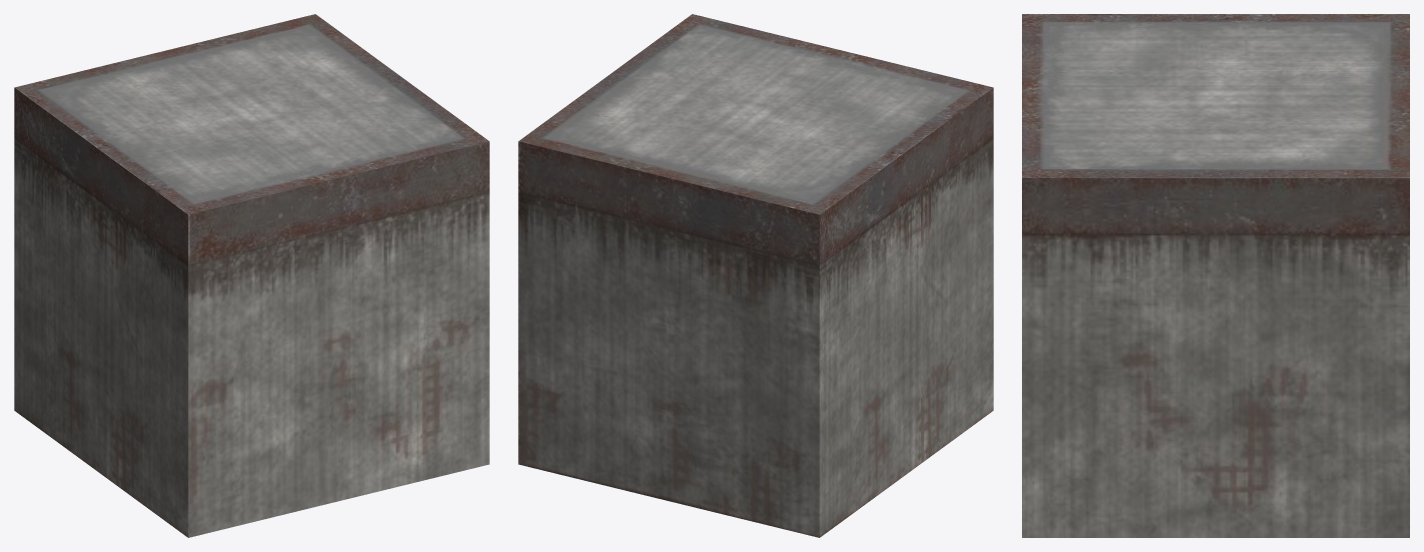
File: armored_foundation_square_high_textured.glb
3 views of the same model, side by side, from view 1: azimuth 30°, elevation 25°; view 2: azimuth 150°, elevation 25°; view 3: azimuth 270°, elevation 25° (orthographic). The views are drawn at different scales.
Visible parts, largest first — view 1: Cube; view 2: Cube; view 3: Cube.
Part boxes in pixels (x1,y1,x2,y2): Cube: (14,14,489,537); Cube: (518,14,993,537); Cube: (1022,14,1409,537).
Size of the model in its own units: 2 by 2.05 by 2.
Materials: 1 (1 with a texture image).
